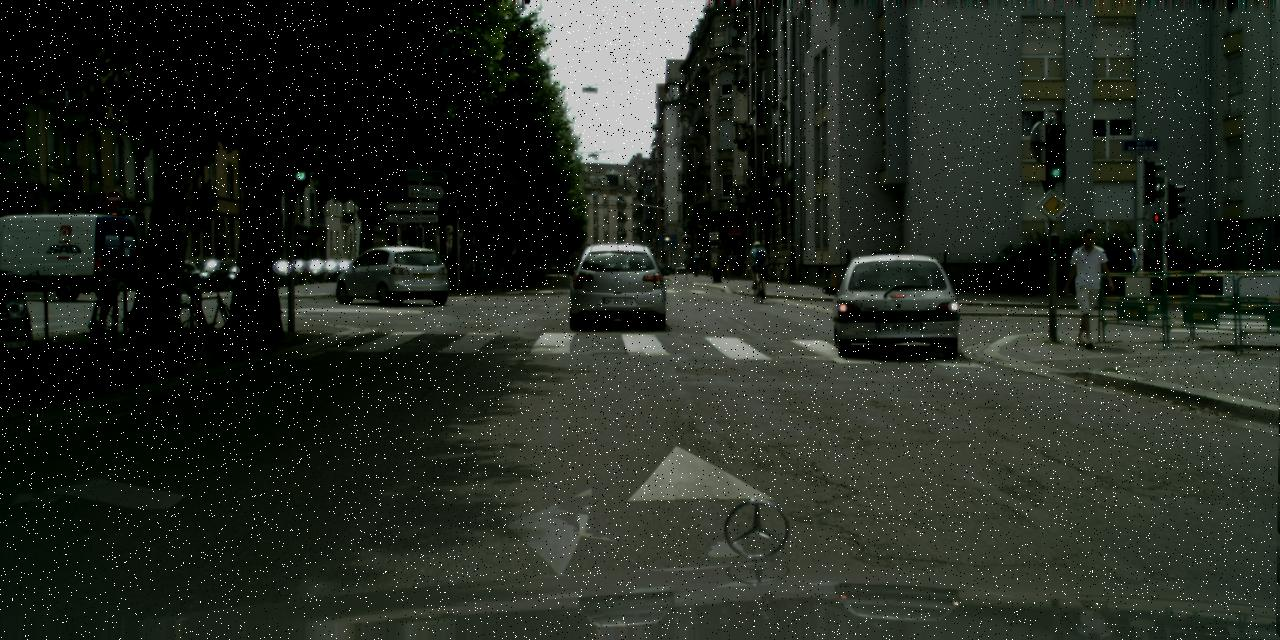ped: (1062, 228, 1110, 347), (748, 240, 769, 294), (725, 250, 737, 280), (716, 250, 726, 278), (691, 252, 701, 277)
